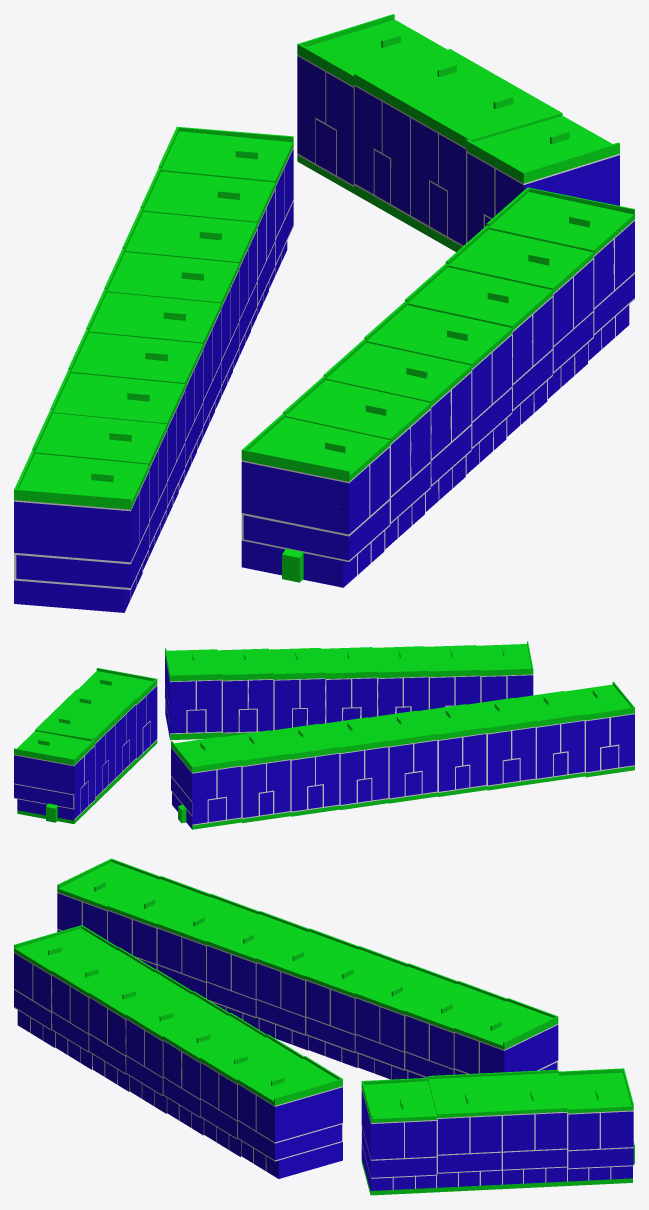
The model's file is buildings.glb.
3 views of the same model, one above another, from view 1: azimuth 30°, elevation 25°; view 2: azimuth 150°, elevation 25°; view 3: azimuth 270°, elevation 25° (orthographic). The views are drawn at different scales.
Visible parts, largest first — view 1: SM_Building_1_Walls_01, SM_Building_3_Walls_01, SM_Building_2_Walls_01, SM_Building_1_Part_27, SM_Building_3_Part_21, SM_Building_3_Devider_01, SM_Building_3_Part_20, SM_Building_1_Devider_01, SM_Building_2_Part_12, SM_Building_1_Part_26, SM_Building_2_Devider_01, SM_Building_2_Part_01 (+26 smaller); view 2: SM_Building_1_Walls_01, SM_Building_3_Walls_01, SM_Building_2_Walls_01, SM_Building_1_Devider_01, SM_Building_2_Part_01, SM_Building_3_Devider_01, SM_Building_1_Part_01, SM_Building_3_Part_01, SM_Building_3_Part_07, SM_Building_3_Part_06, SM_Building_2_Devider_01, SM_Building_3_Part_03 (+46 smaller); view 3: SM_Building_1_Walls_01, SM_Building_3_Walls_01, SM_Building_2_Walls_01, SM_Building_3_Part_01, SM_Building_1_Devider_01, SM_Building_3_Devider_01, SM_Building_1_Part_01, SM_Building_2_Devider_01, SM_Building_2_Part_12, SM_Building_3_Part_02, SM_Building_2_Part_11, SM_Building_2_Part_01 (+51 smaller).
Boxes of the visible parts, left/top/right/bottom form: SM_Building_1_Walls_01: left=14, top=126, right=293, bottom=509; SM_Building_3_Walls_01: left=241, top=187, right=634, bottom=582; SM_Building_2_Walls_01: left=297, top=14, right=619, bottom=252; SM_Building_1_Part_27: left=14, top=492, right=139, bottom=612; SM_Building_3_Part_21: left=241, top=462, right=369, bottom=587; SM_Building_3_Devider_01: left=241, top=219, right=634, bottom=575; SM_Building_3_Part_20: left=243, top=501, right=389, bottom=574; SM_Building_1_Devider_01: left=14, top=147, right=293, bottom=598; SM_Building_2_Part_12: left=495, top=155, right=619, bottom=214; SM_Building_1_Part_26: left=16, top=525, right=148, bottom=598; SM_Building_2_Devider_01: left=297, top=54, right=619, bottom=246; SM_Building_2_Part_01: left=297, top=56, right=325, bottom=162; SM_Building_1_Walls_01: left=171, top=681, right=634, bottom=829; SM_Building_3_Walls_01: left=165, top=641, right=533, bottom=740; SM_Building_2_Walls_01: left=14, top=668, right=157, bottom=823; SM_Building_1_Devider_01: left=171, top=713, right=634, bottom=825; SM_Building_2_Part_01: left=14, top=755, right=84, bottom=820; SM_Building_3_Devider_01: left=165, top=655, right=533, bottom=734; SM_Building_1_Part_01: left=171, top=748, right=216, bottom=829; SM_Building_3_Part_01: left=165, top=656, right=195, bottom=738; SM_Building_3_Part_07: left=274, top=680, right=299, bottom=729; SM_Building_3_Part_06: left=248, top=680, right=273, bottom=731; SM_Building_2_Devider_01: left=14, top=685, right=157, bottom=819; SM_Building_3_Part_03: left=197, top=680, right=221, bottom=731; SM_Building_1_Walls_01: left=57, top=858, right=558, bottom=1049; SM_Building_3_Walls_01: left=14, top=925, right=342, bottom=1105; SM_Building_2_Walls_01: left=361, top=1068, right=634, bottom=1195; SM_Building_3_Part_01: left=256, top=1087, right=342, bottom=1178; SM_Building_1_Devider_01: left=57, top=892, right=558, bottom=1079; SM_Building_3_Devider_01: left=14, top=952, right=342, bottom=1171; SM_Building_1_Part_01: left=480, top=1025, right=558, bottom=1073; SM_Building_2_Devider_01: left=361, top=1088, right=633, bottom=1189; SM_Building_2_Part_12: left=361, top=1090, right=403, bottom=1190; SM_Building_3_Part_02: left=238, top=1121, right=341, bottom=1170; SM_Building_2_Part_11: left=362, top=1127, right=436, bottom=1189; SM_Building_2_Part_01: left=601, top=1111, right=633, bottom=1179.
Size of the model in its own units: 100 by 16.32 by 98.03.
